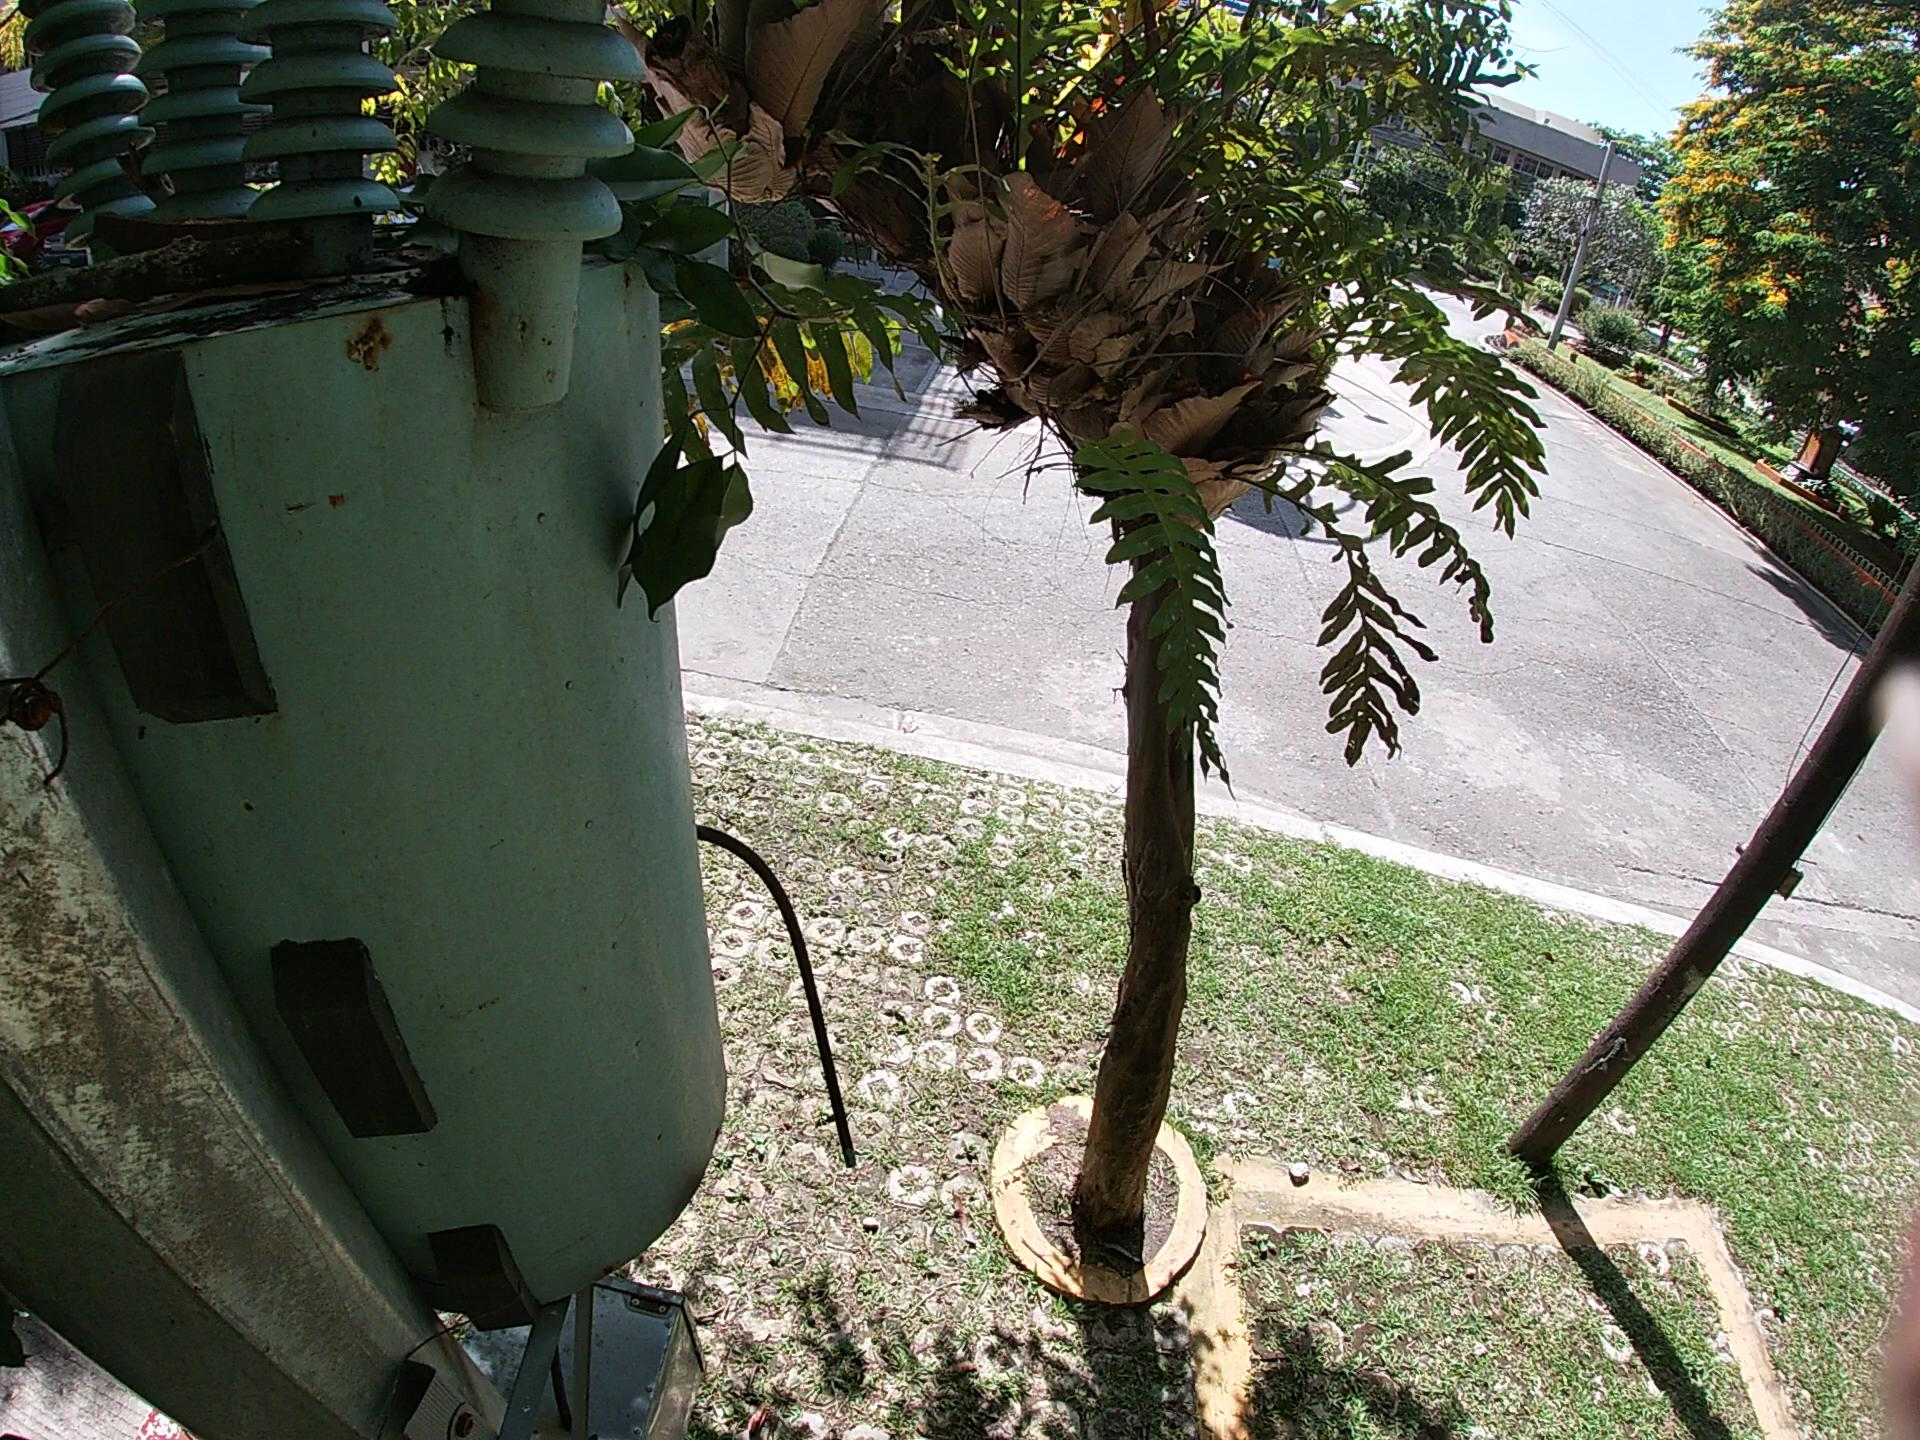branch with leaves: (603, 82, 777, 622)
leaf: (390, 169, 454, 278), (59, 296, 219, 330)
mahogany fruit: (177, 206, 266, 251)
tree branch: (2, 251, 234, 290)
